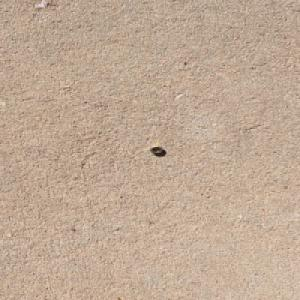Nut: (148, 145, 164, 154)
